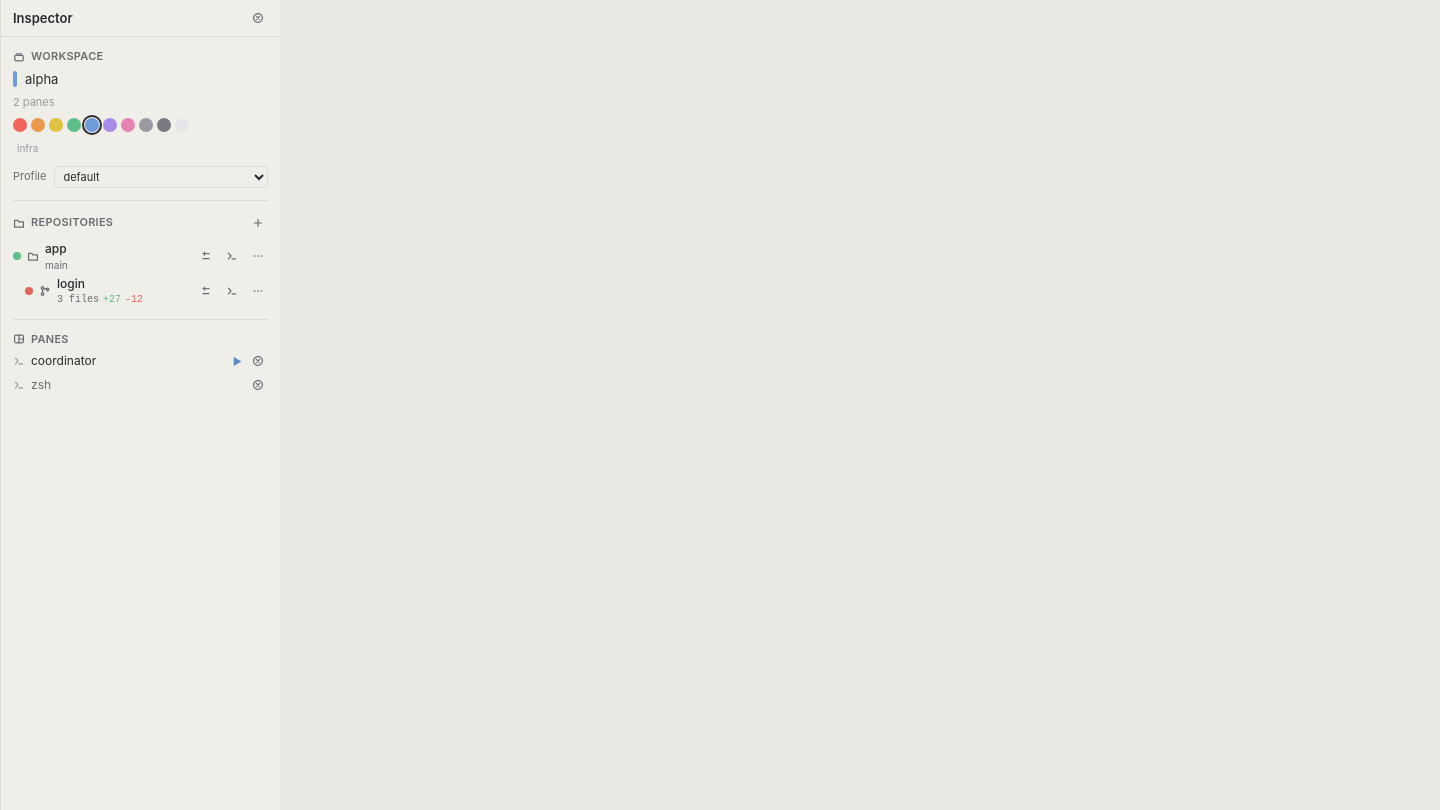
Scenario: the Add Repository sheet’s Choose… (#283) › clears a standing refusal once a new folder is chosen
This screenshot has width=1440, height=810.
Click the button with test id "inspector-add-repo" at [258, 223], box [248,213,268,233]
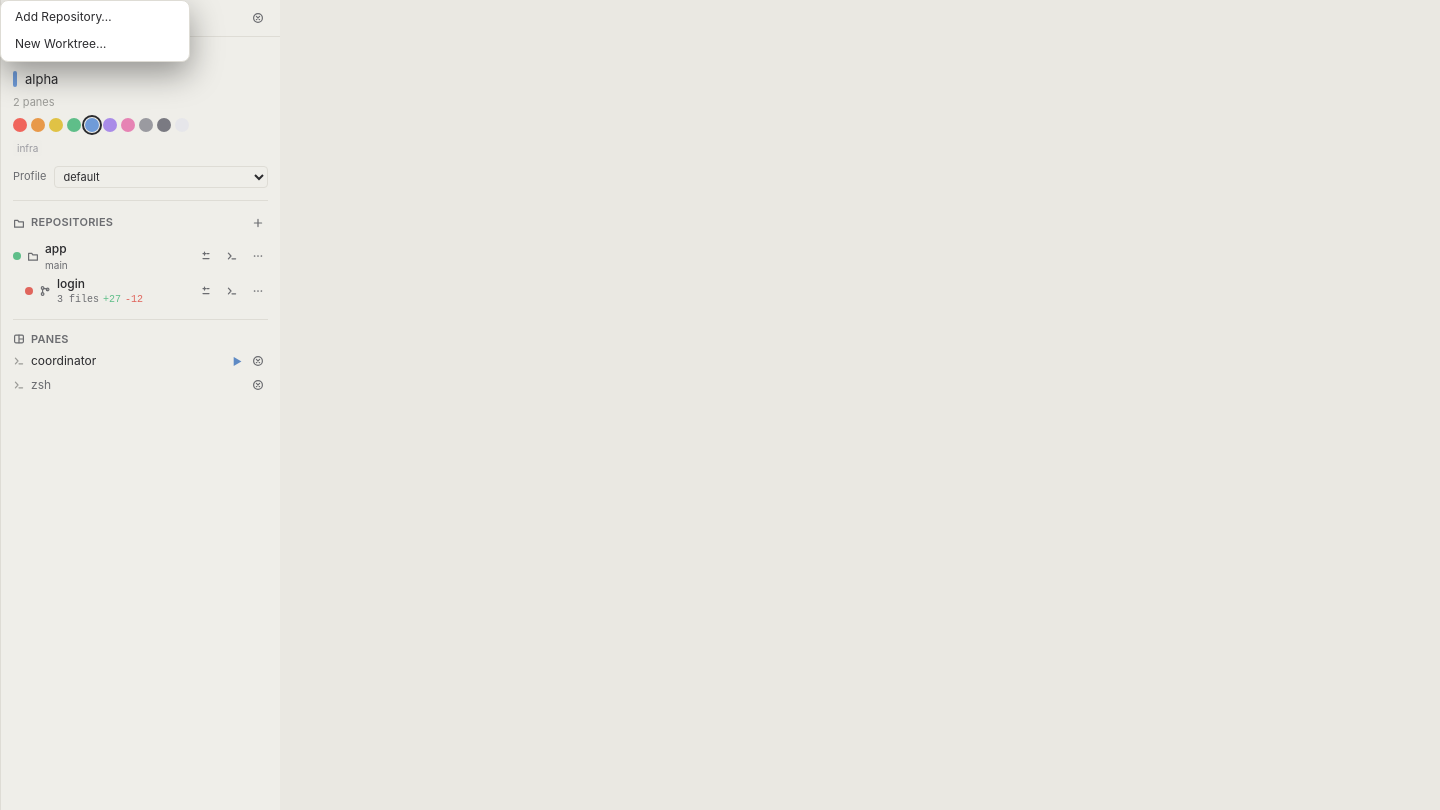
Click the menu item "Add Repository…" at [95, 17], box [5,5,185,30]
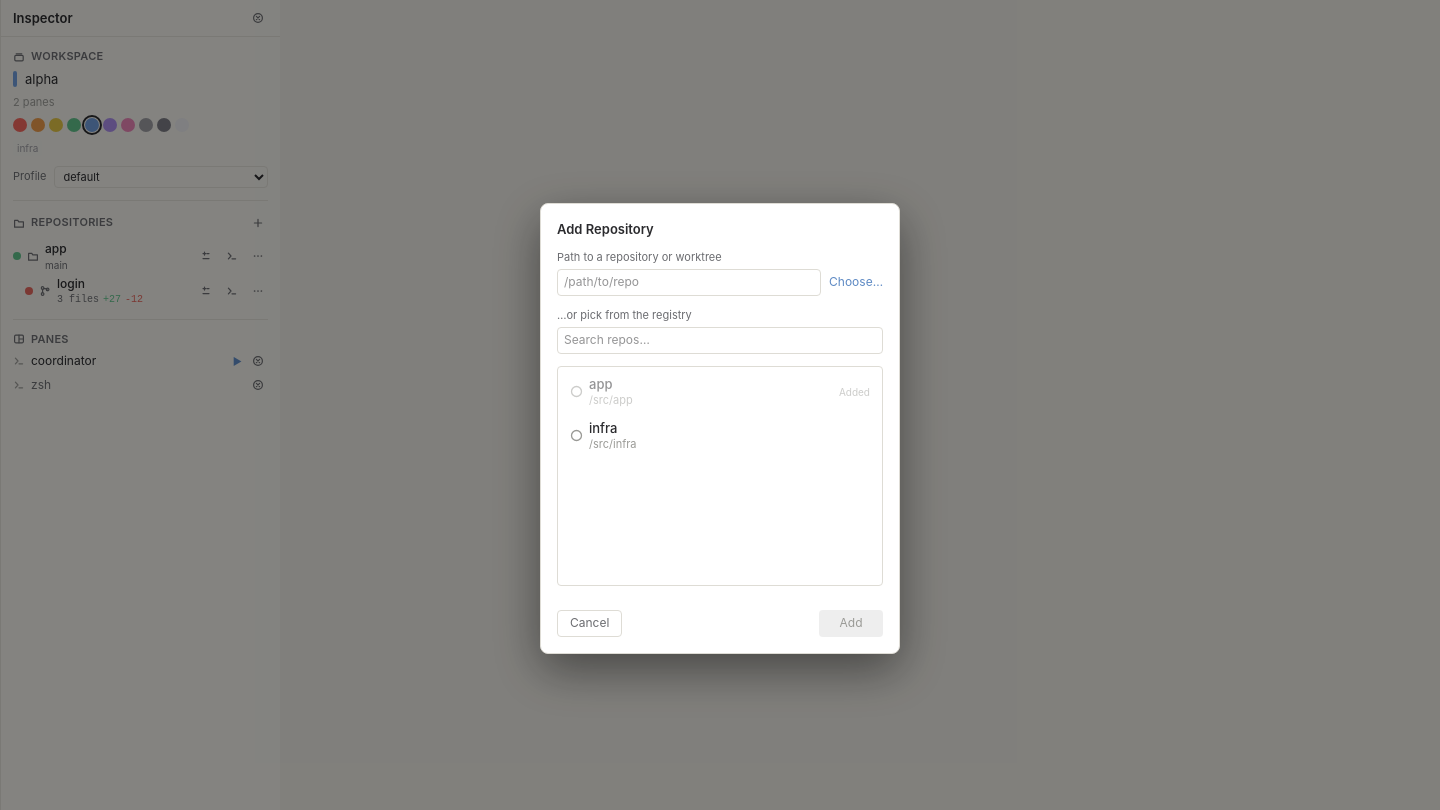
Type "/tmp/x" into the field with test id "add-repo-path" at [689, 282], box [557,269,821,296]
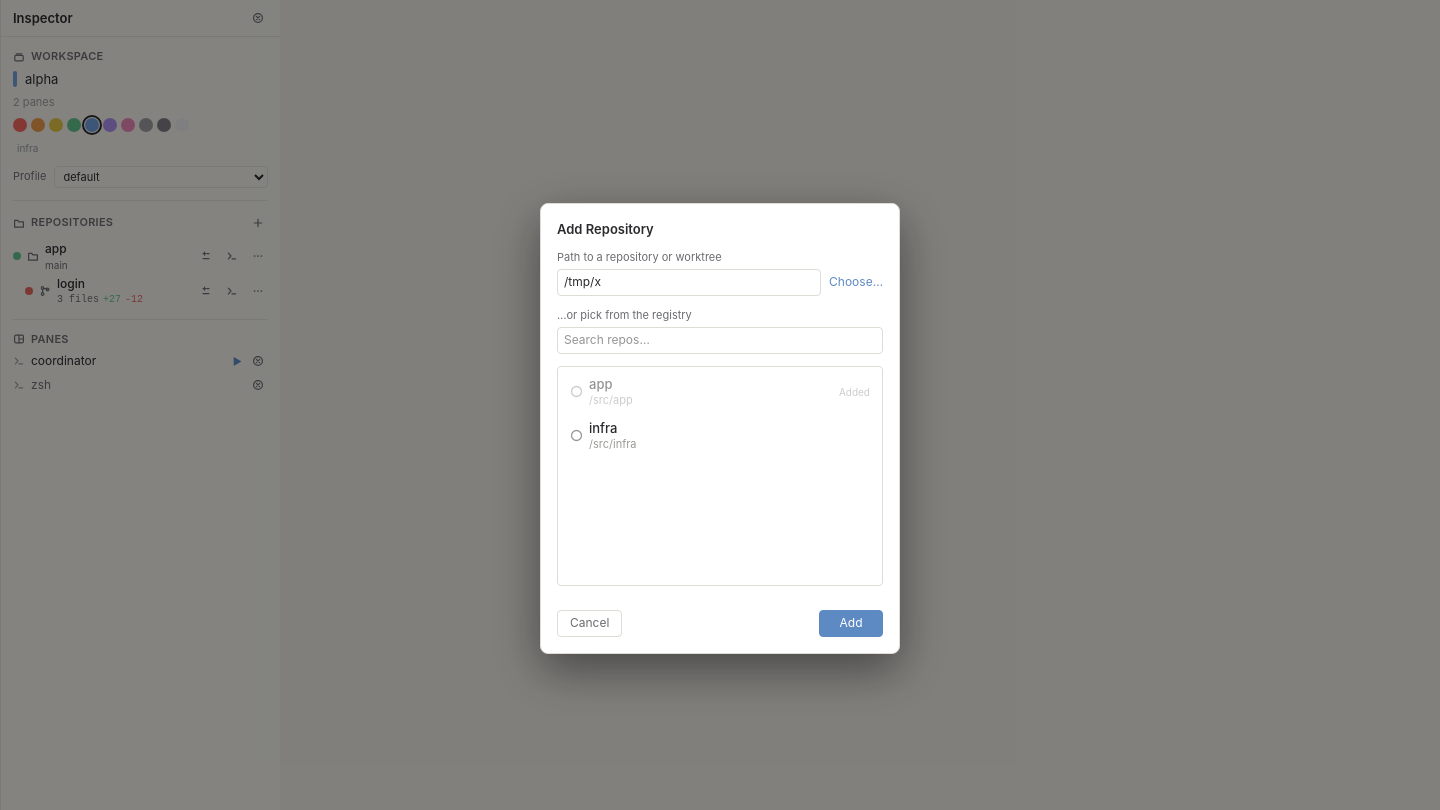
Click the button with test id "add-repo-submit" at [851, 624], box [819,610,883,637]
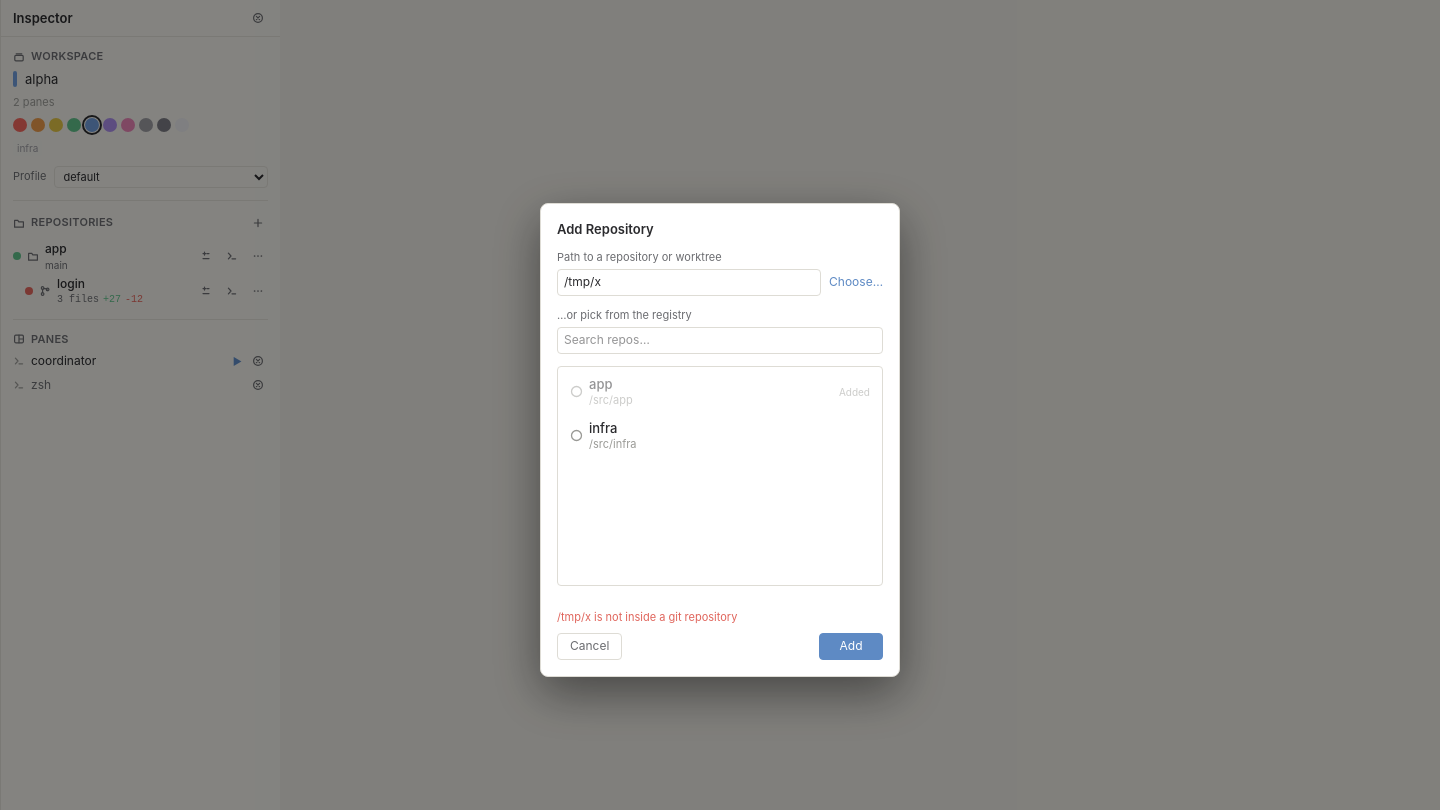
Result: the text "/tmp/x is not inside a git repository" is shown at [557,610,737,624]
Click the button with test id "add-repo-browse" at [856, 282], box [829,274,883,291]
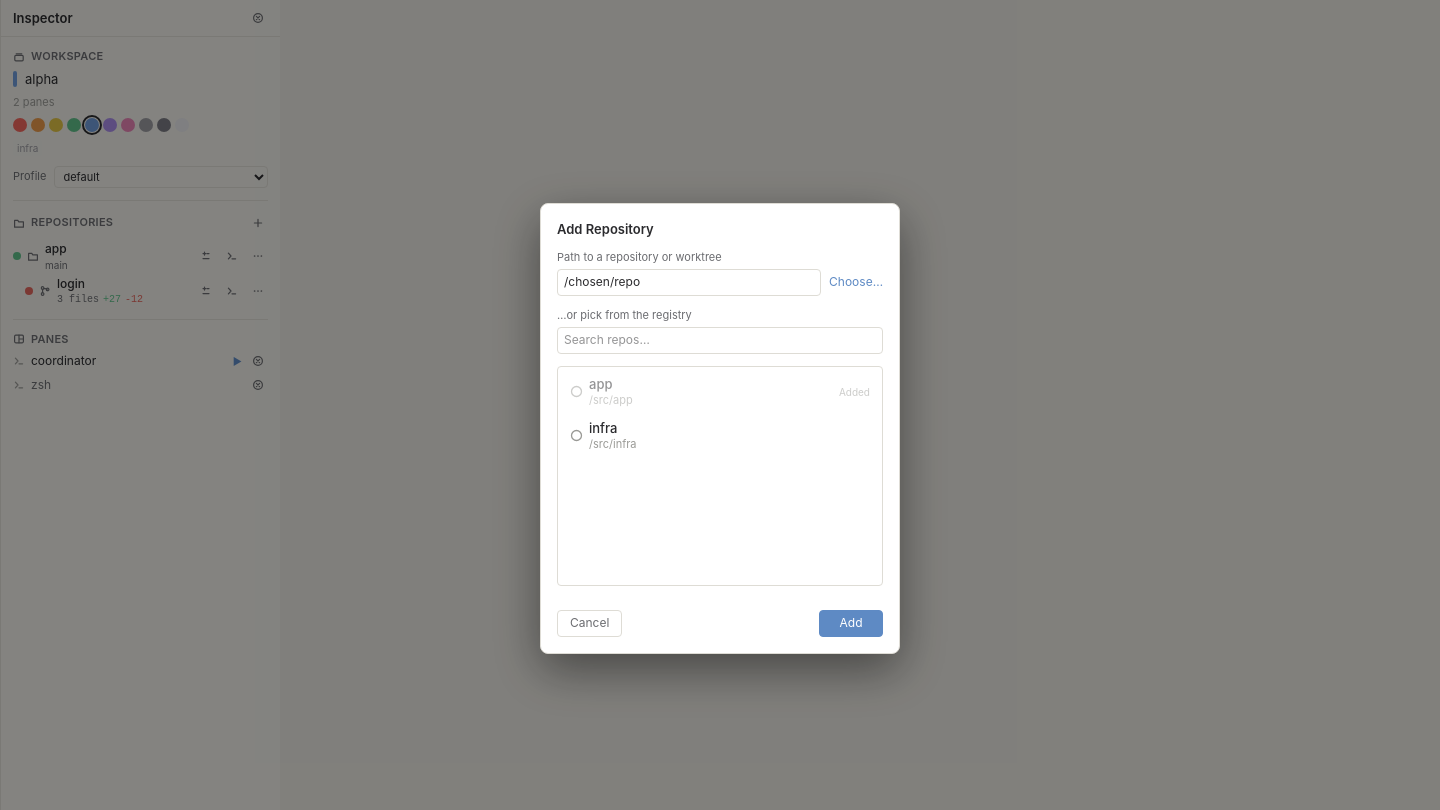
Result: the text with test id "sheet-error" is gone
